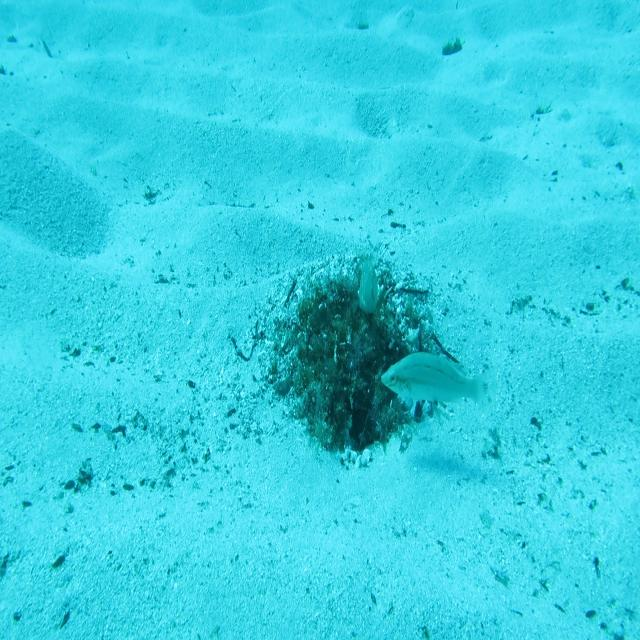NIP_CORE: (355, 249, 380, 318)
core_nest: (325, 296, 383, 356)
female: (380, 346, 496, 420)
nest: (240, 240, 462, 484)
vegetation: (441, 40, 463, 60)
